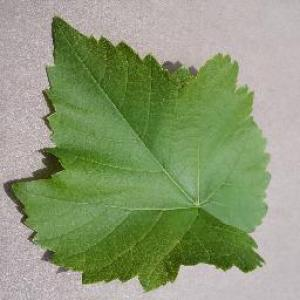Folha: (6, 14, 271, 292)
